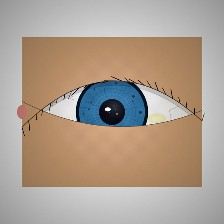pinguecula_lesion: (139, 104, 175, 133)
